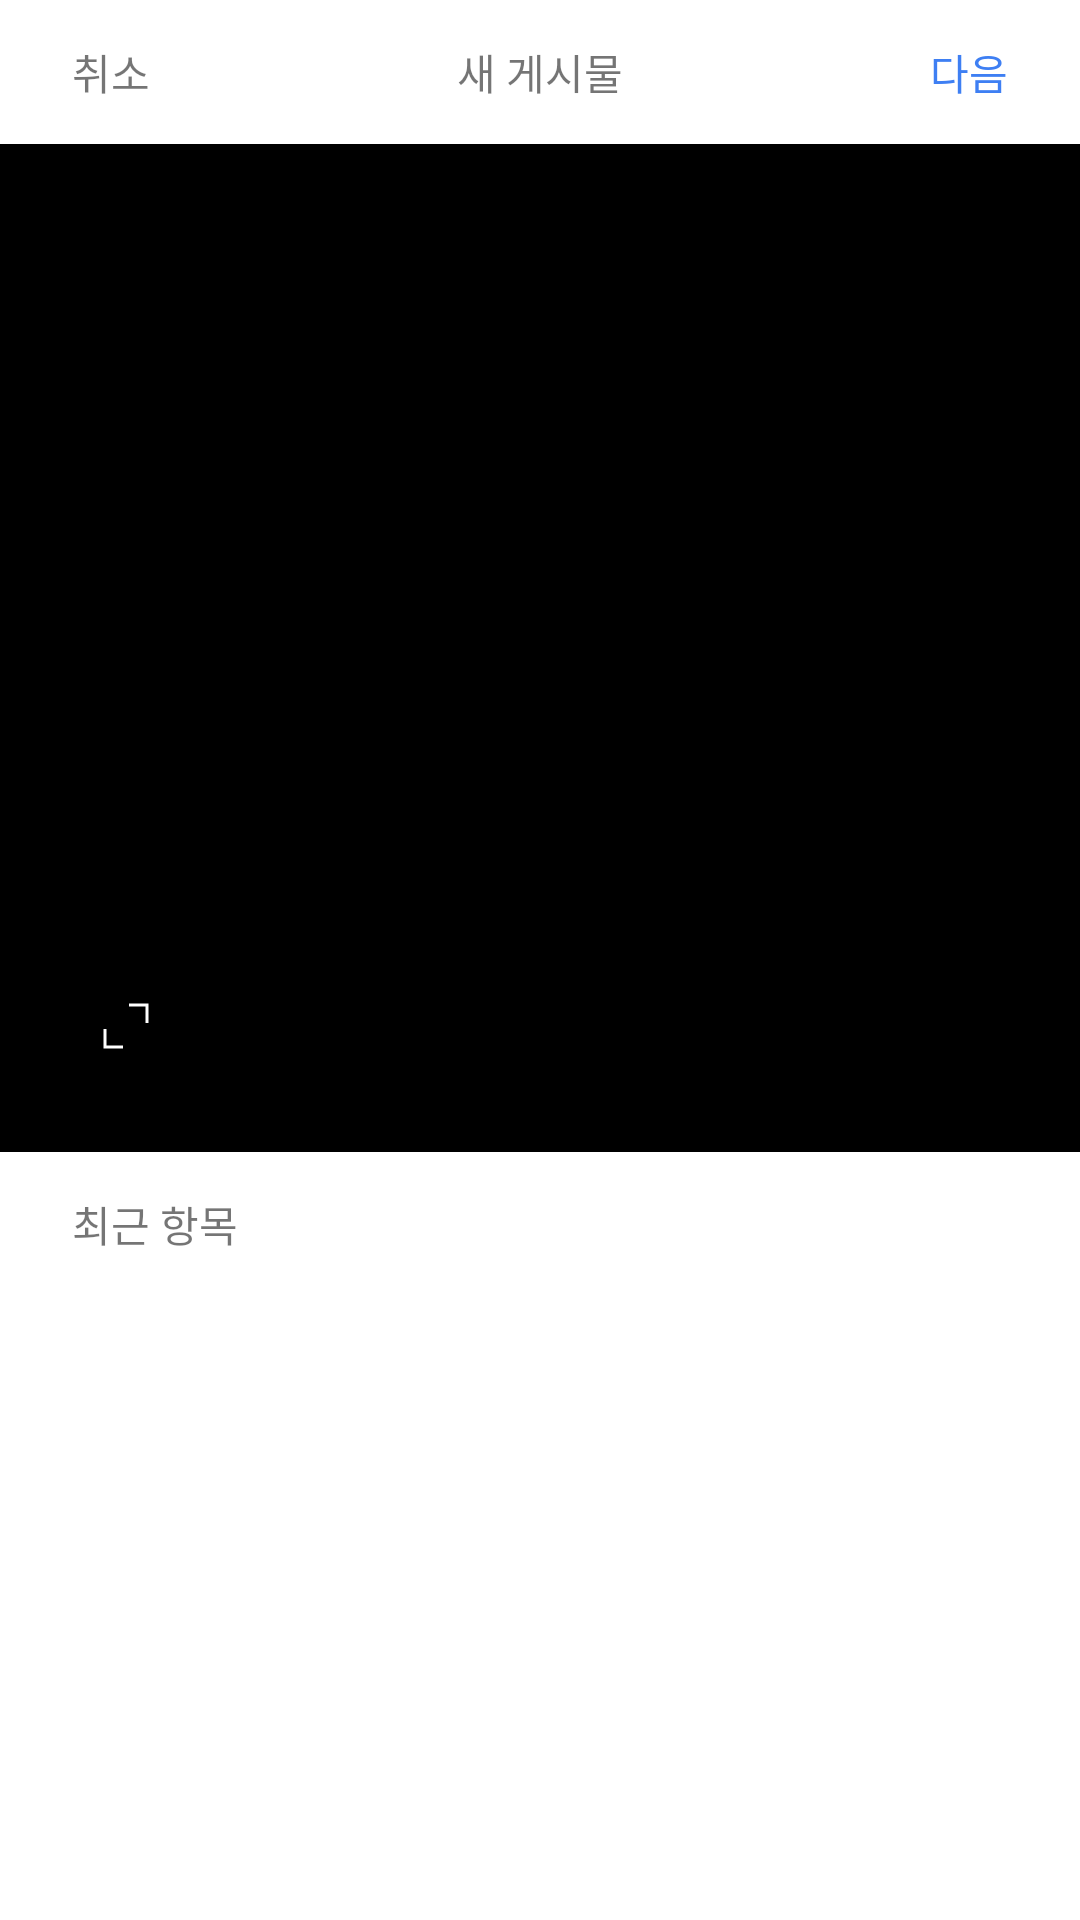

Icons on this 1080 × 1920 Android screen, each with the point to tap as [x,y]:
spread: [126,1026]
